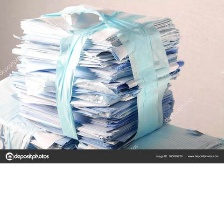news_paper: (9, 2, 187, 149)
